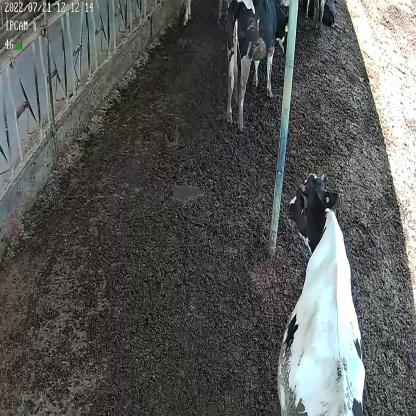cow: (273, 167, 367, 416), (226, 0, 278, 128)
